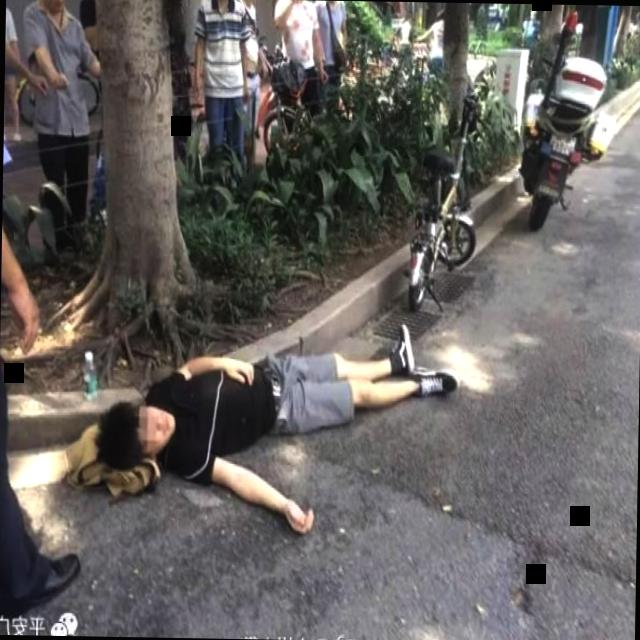Fall-Detected: (48, 307, 478, 551)
